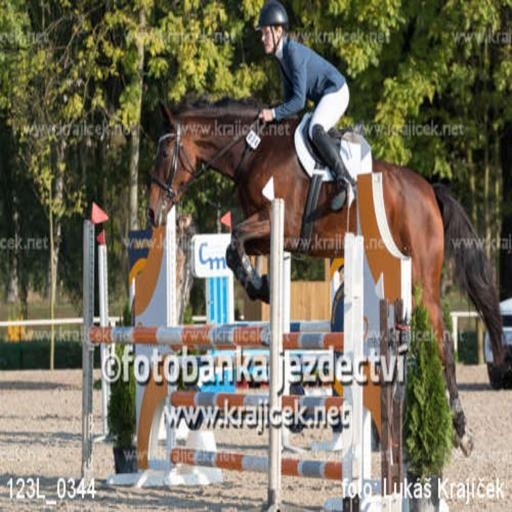Horse: (145, 100, 509, 460)
